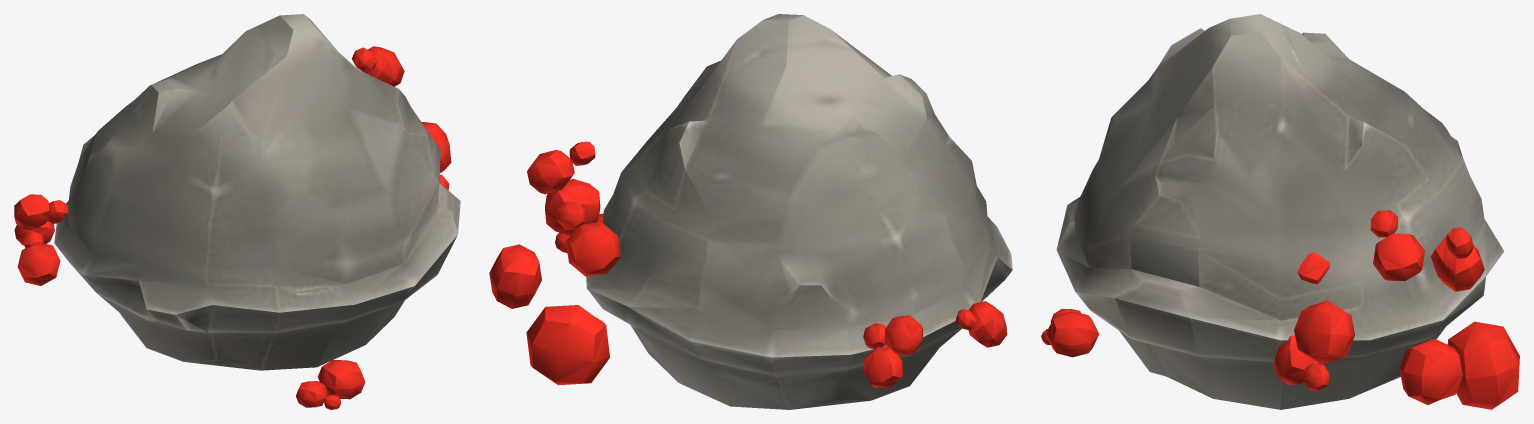
Rendered from r32_eisenerz.glb.
The picture shows the model from 3 angles, left to right: view 1: azimuth 30°, elevation 25°; view 2: azimuth 150°, elevation 25°; view 3: azimuth 270°, elevation 25°; orthographic projection. The views are drawn at different scales.
Visible parts, largest first — view 1: eisenerz_fels, eisenerz_erz; view 2: eisenerz_fels, eisenerz_erz; view 3: eisenerz_fels, eisenerz_erz.
Boxes of the visible parts, box(x1,y1,x2,y2) form: eisenerz_fels: box(54, 14, 460, 370); eisenerz_erz: box(14, 46, 451, 409); eisenerz_fels: box(586, 14, 1012, 409); eisenerz_erz: box(489, 141, 1007, 388); eisenerz_fels: box(1056, 14, 1504, 409); eisenerz_erz: box(1041, 210, 1519, 409).
Bounding box in the file's own units: 1 × 0.6887 × 0.8472.
2 materials, 1 textured.
